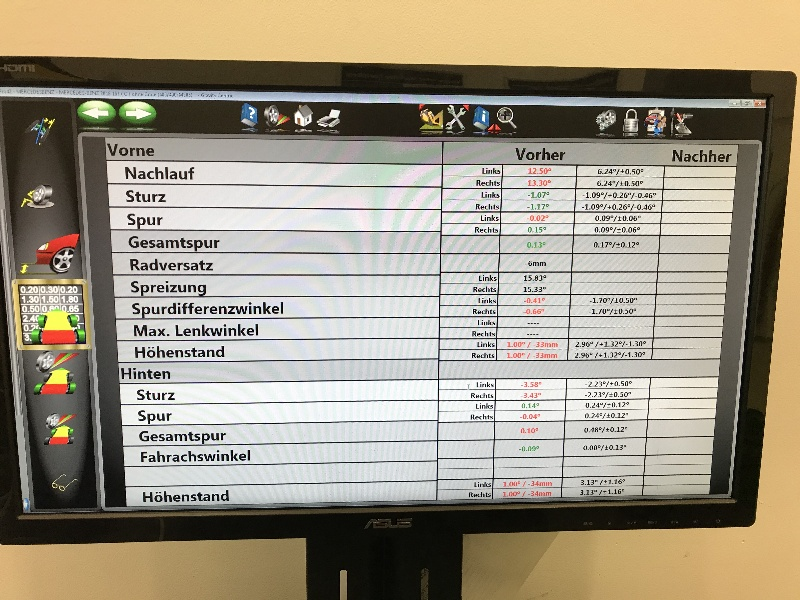wam_one: (100, 132, 577, 506)
